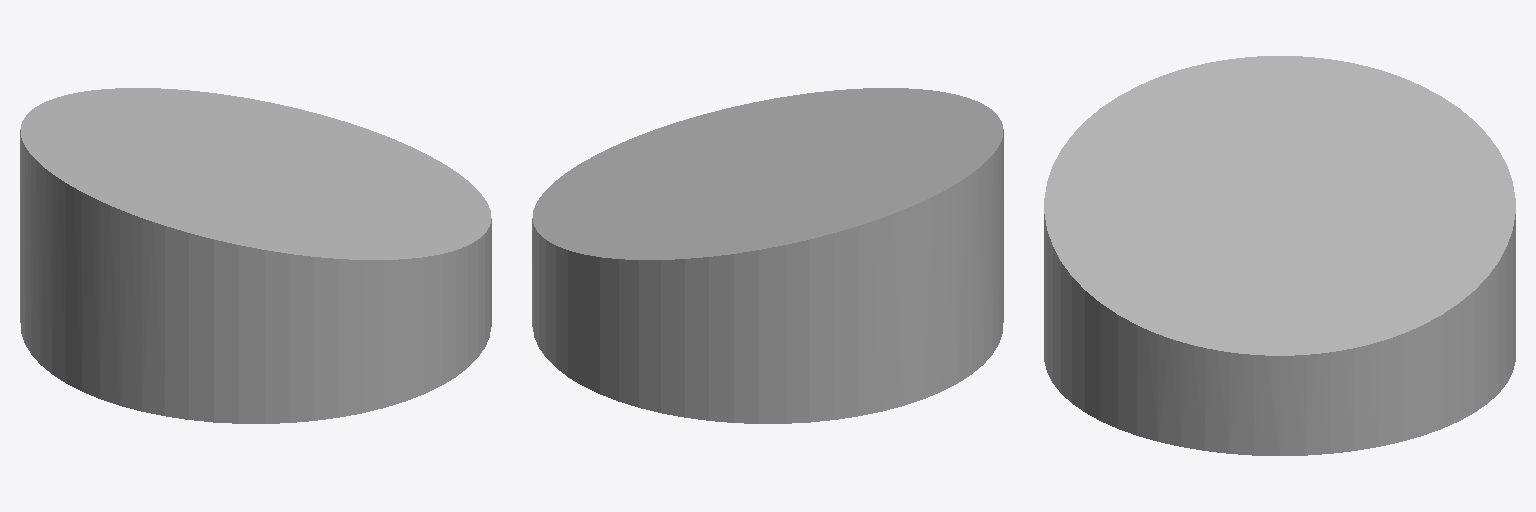
The robot description file, URDF, robot "root":
<robot name="root">
  <link name="link_scallop_convex_piece_0">
    <inertial>
      <origin xyz="0 0 0" rpy="0 0 0"/>
      <mass value="2.27E-01"/>
      <inertia ixx="1.76E-04" ixy="2.20E-13" ixz="1.69E-05" iyy="1.72E-04" iyz="-2.59E-14" izz="2.91E-04"/>
    </inertial>
    <visual>
      <origin xyz="0 0 0" rpy="0 0 0"/>
      <geometry>
        <mesh filename="scallop_convex_piece_0.obj" scale="1.0000E+00 1.0000E+00 1.0000E+00"/>
      </geometry>
      <material name="">
        <color rgba="7.50E-01 7.50E-01 7.50E-01 1"/>
      </material>
    </visual>
    <collision>
      <origin xyz="0 0 0" rpy="0 0 0"/>
      <geometry>
        <mesh filename="scallop_convex_piece_0.obj" scale="1.0000E+00 1.0000E+00 1.0000E+00"/>
      </geometry>
    </collision>
  </link>
</robot>

--- What the picture shows (computed from the rendered views, not written in the file) ---
The picture shows the robot from 3 angles, left to right: view 1: azimuth 30°, elevation 25°; view 2: azimuth 150°, elevation 25°; view 3: azimuth 270°, elevation 25°; orthographic projection.
Robot: root — 1 links, 0 joints (none); root link link_scallop_convex_piece_0; default pose: every joint at zero.
Links seen in each view (by area): view 1: link_scallop_convex_piece_0; view 2: link_scallop_convex_piece_0; view 3: link_scallop_convex_piece_0.
Boxes of the visible links, x1,y1,x2,y2 form: link_scallop_convex_piece_0: (20,88,491,423); link_scallop_convex_piece_0: (532,88,1003,423); link_scallop_convex_piece_0: (1044,56,1515,455).
Bounding box of the posed robot: 0.1021 × 0.102 × 0.048 m (x, y, z).
Meshes: 1 distinct files referenced, 1 mesh visuals loaded (1 OBJ).
